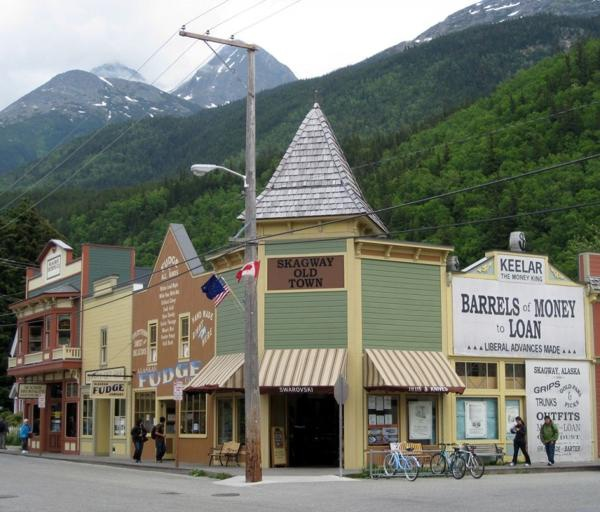non-vehicle: (382, 442, 420, 481), (428, 442, 466, 479), (449, 442, 485, 479)
